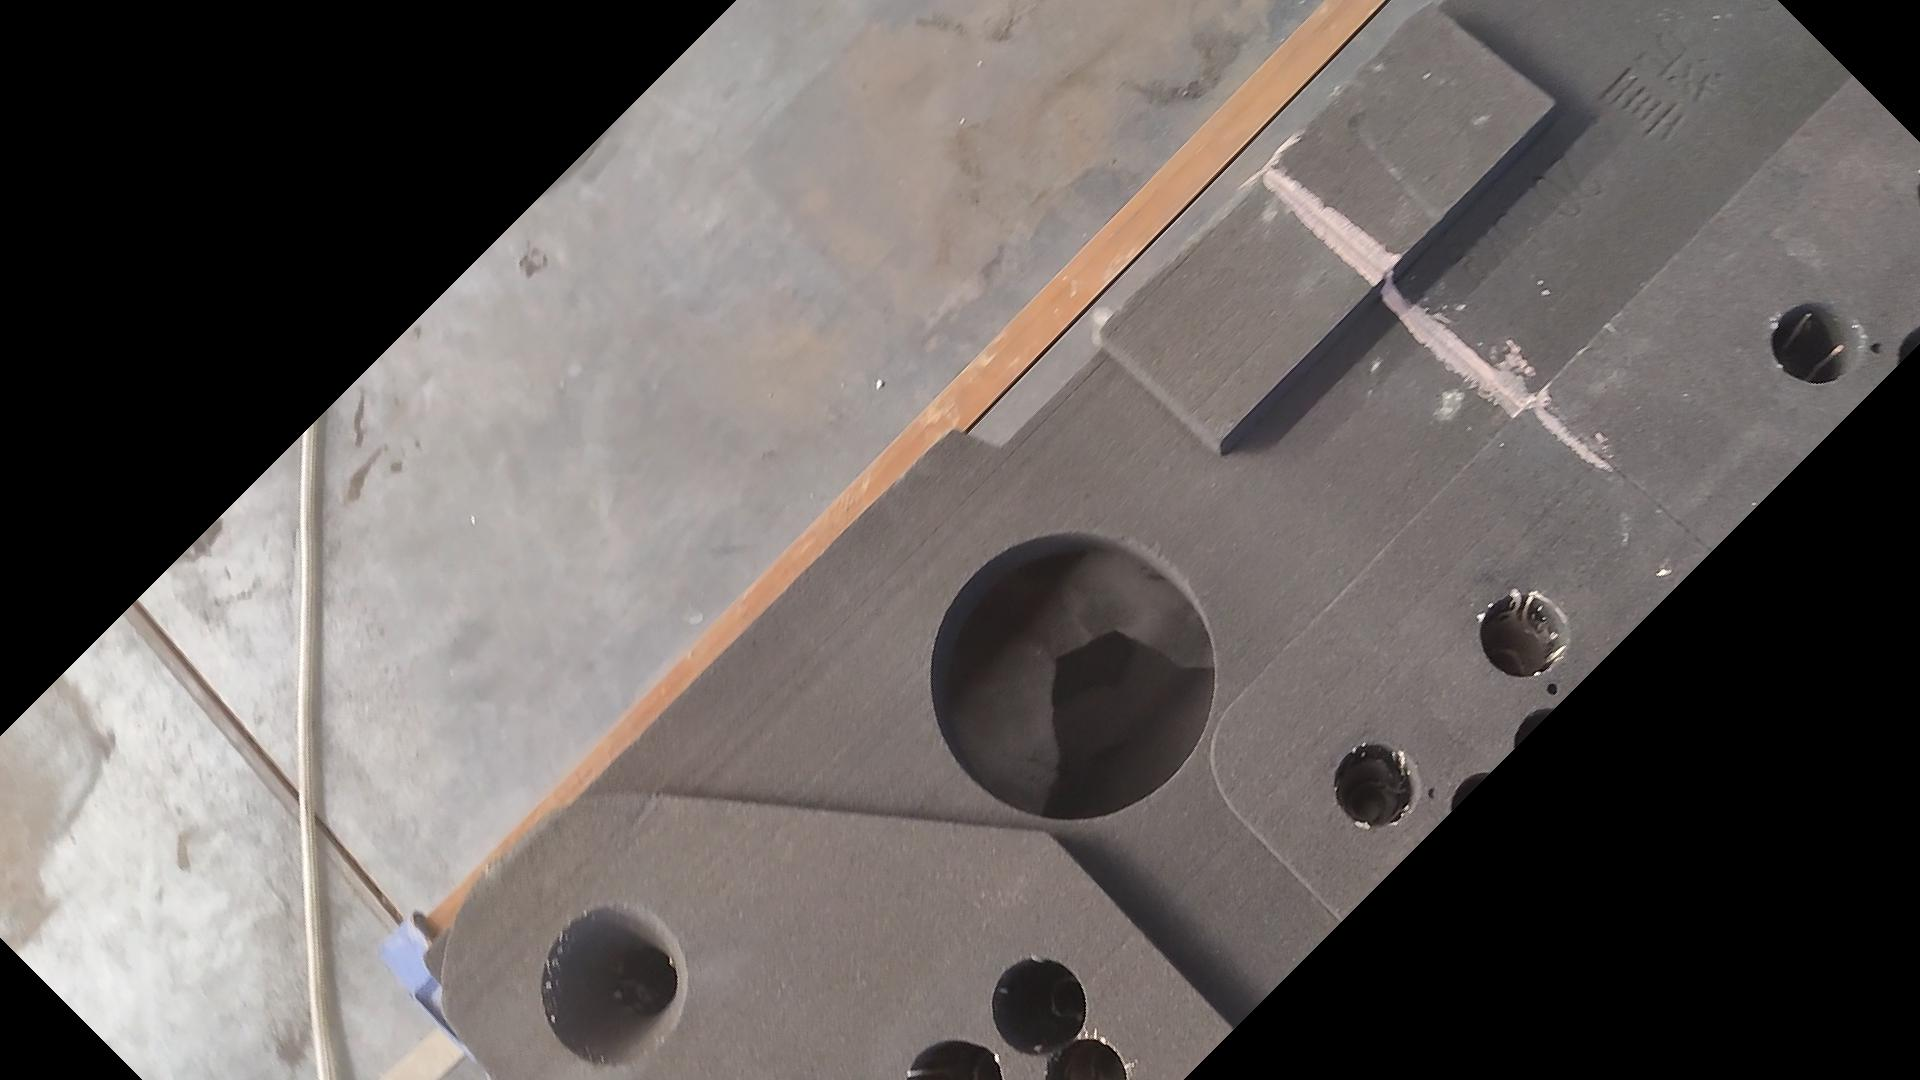pouring hole: (541, 905, 688, 1065)
